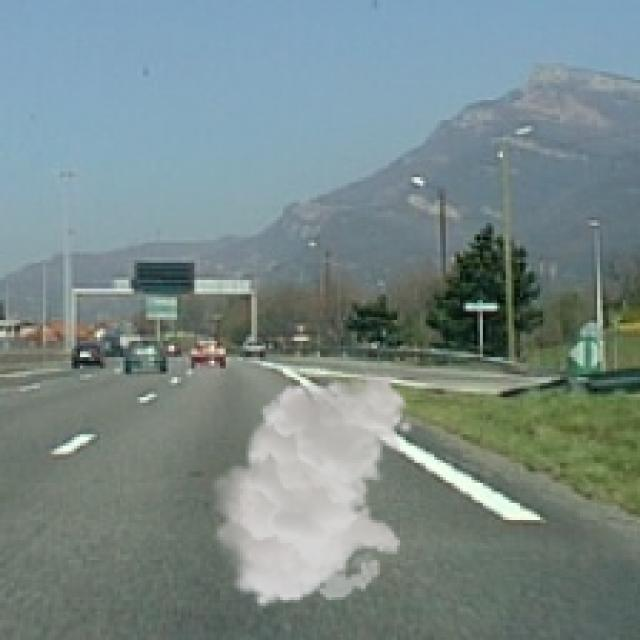Smoke: (206, 372, 414, 608)
